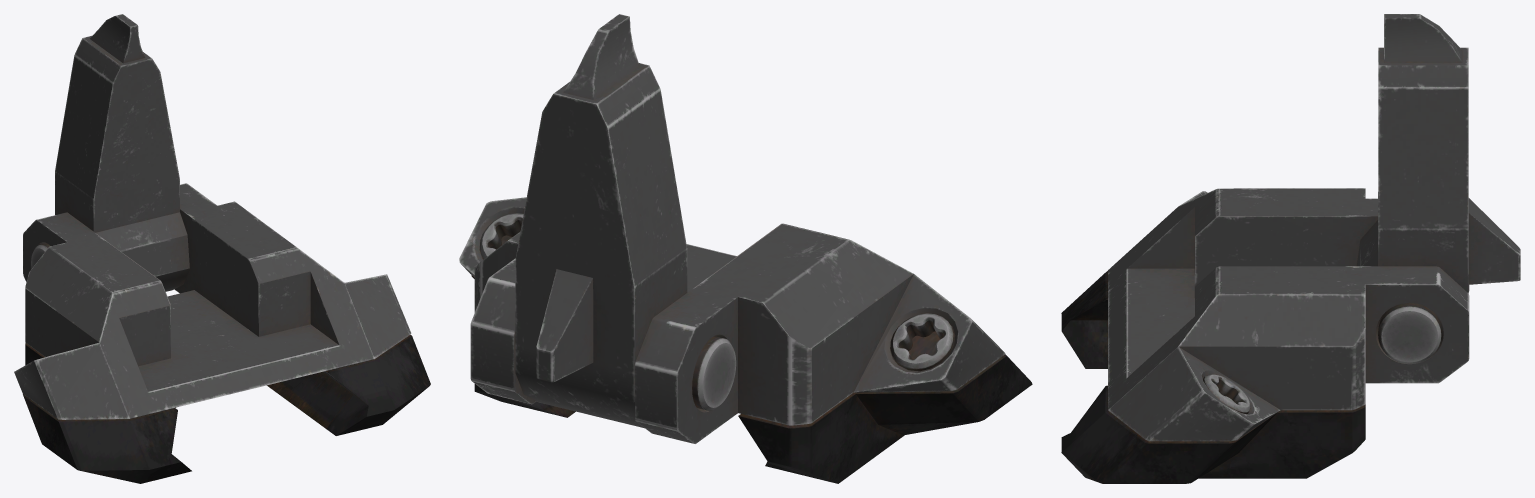
File: IronSights_4_F.glb
3 renders of one model, left to right at view 1: azimuth 30°, elevation 25°; view 2: azimuth 150°, elevation 25°; view 3: azimuth 270°, elevation 25°, orthographic. The views are drawn at different scales.
Parts seen in each view (by area): view 1: IronSights_4_F; view 2: IronSights_4_F; view 3: IronSights_4_F.
Part boxes in pixels (x1=…): IronSights_4_F: x1=14, y1=14, x2=430, y2=483; IronSights_4_F: x1=459, y1=14, x2=1032, y2=483; IronSights_4_F: x1=1061, y1=14, x2=1520, y2=483.
Size of the model in its own units: 0.038 by 0.0344 by 0.0365.
Materials: 1 (1 with a texture image).
